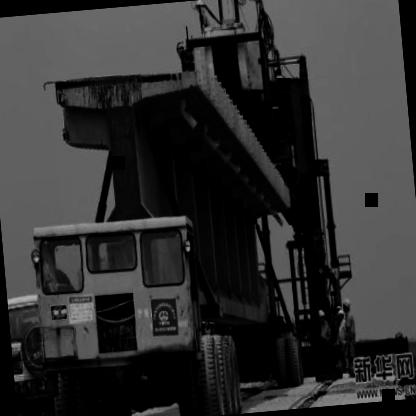helmet: (315, 304, 327, 327), (341, 296, 353, 317)
